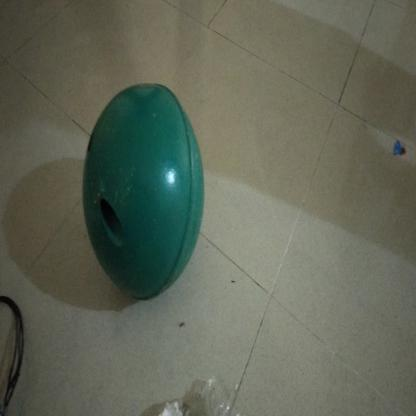green_buoy: (82, 84, 206, 308)
